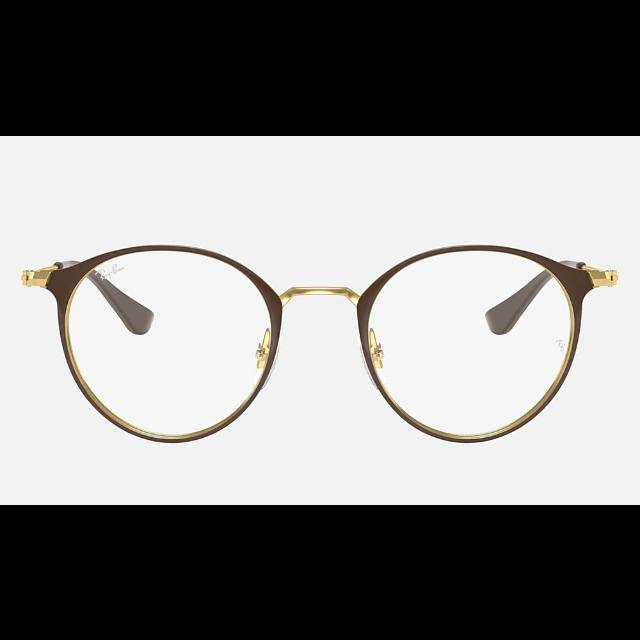glasses: (25, 242, 619, 443)
